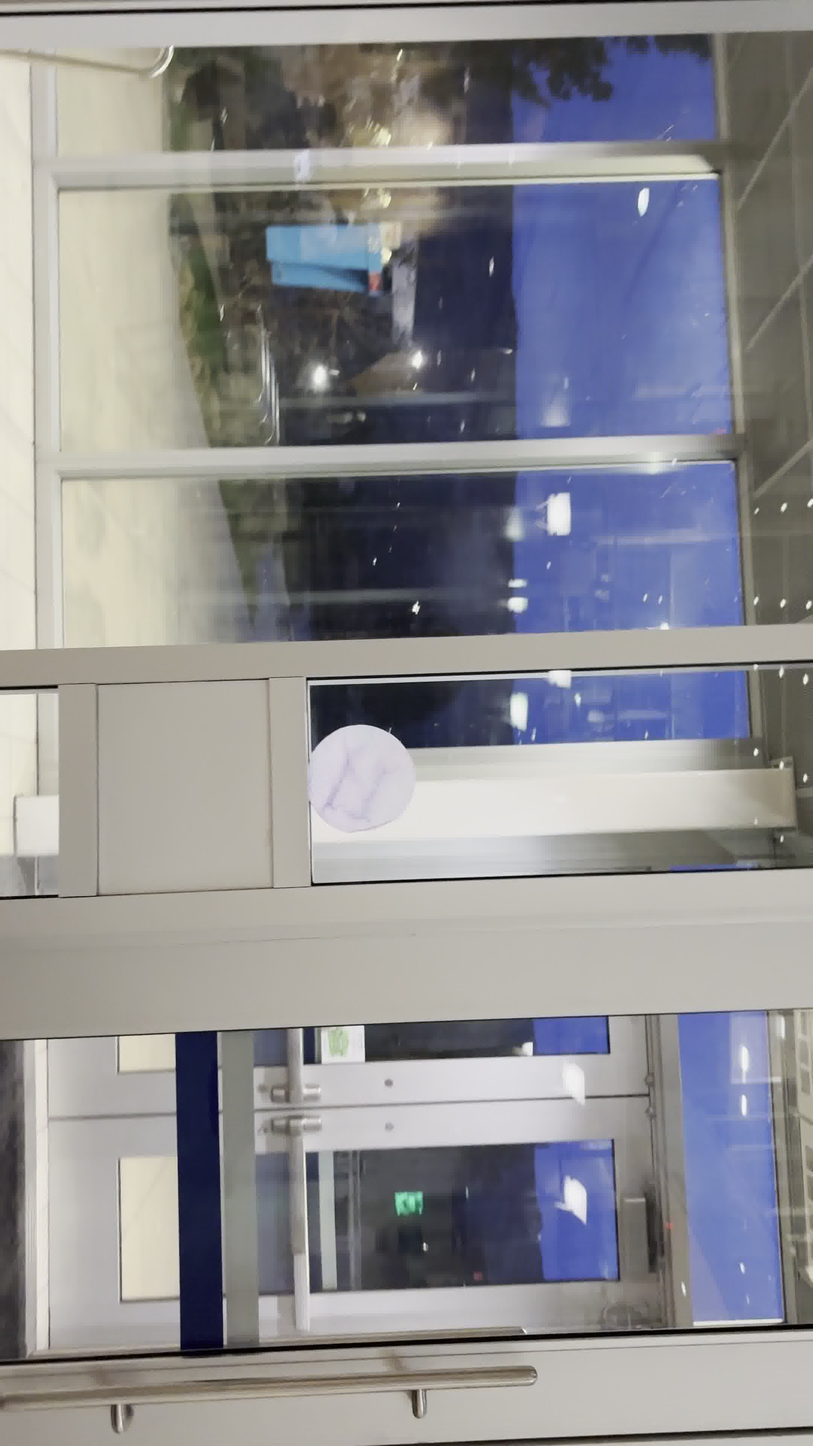Target: (306, 724, 417, 834)
